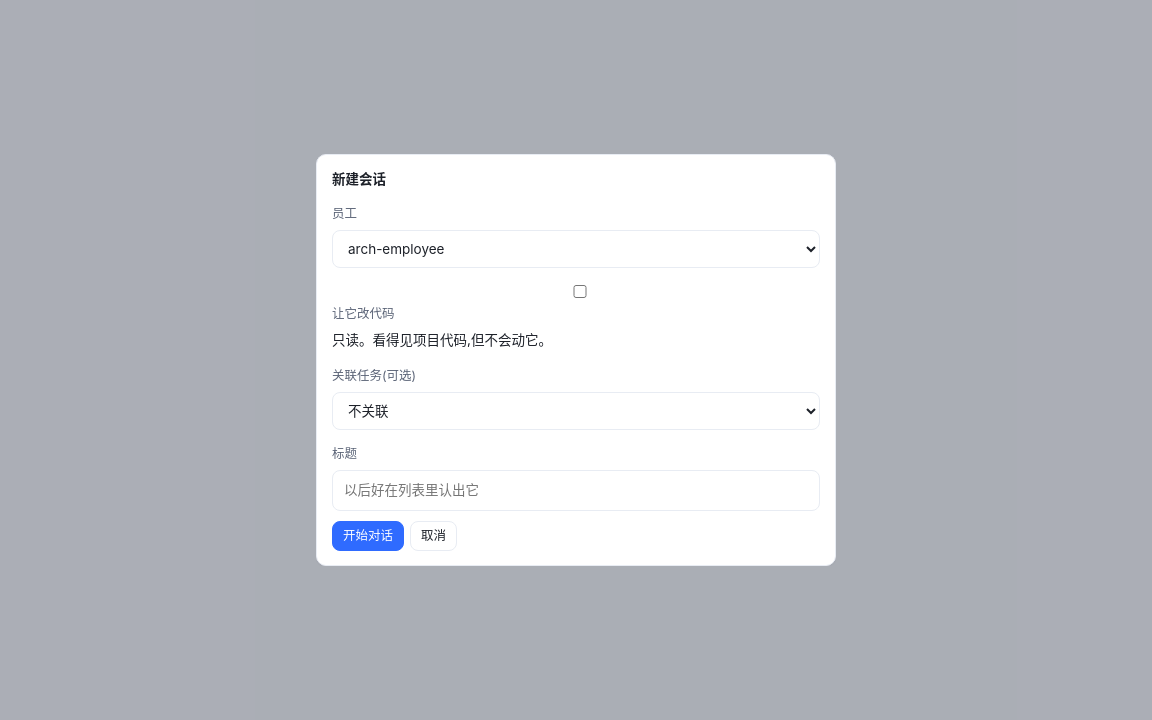
Test: NewSessionDialog › explains what each permission means
Expected: the text "只读。看得见项目代码,但不会动它。" is shown, [332,332,552,348]
Click the checkbox labelled "让它改代码" at [580, 292], box [336,285,824,298]
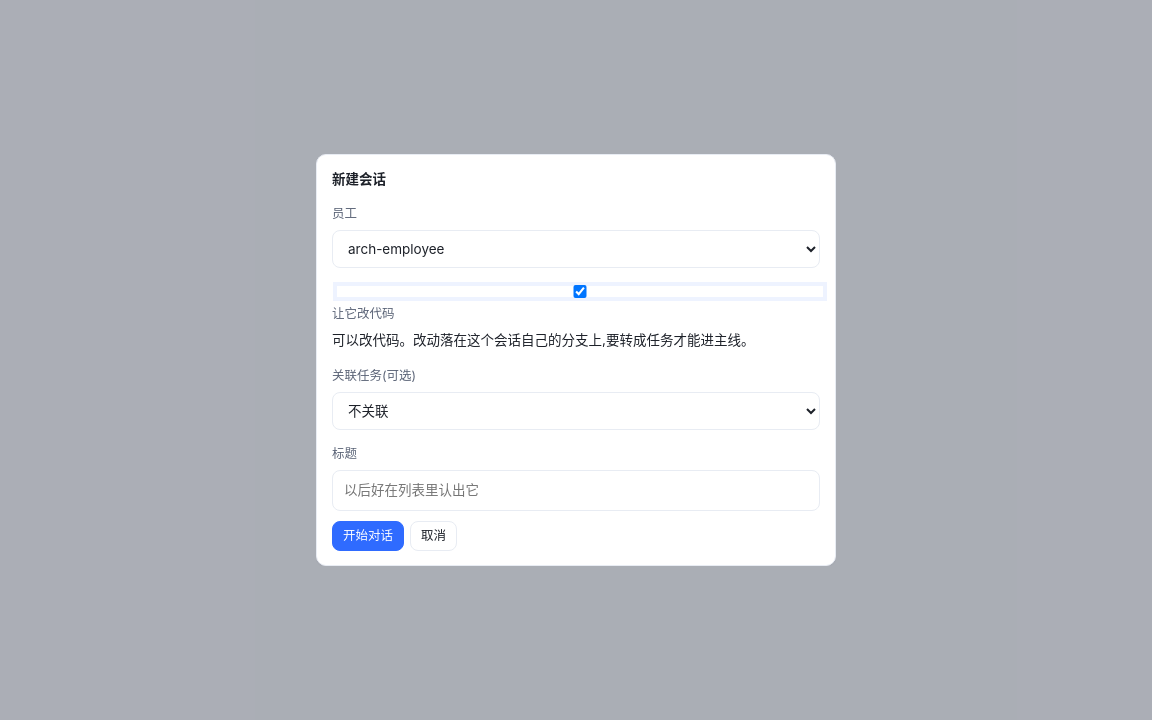
Result: the text "可以改代码。改动落在这个会话自己的分支上,要转成任务才能进主线。" is shown at [332,330,820,352]
